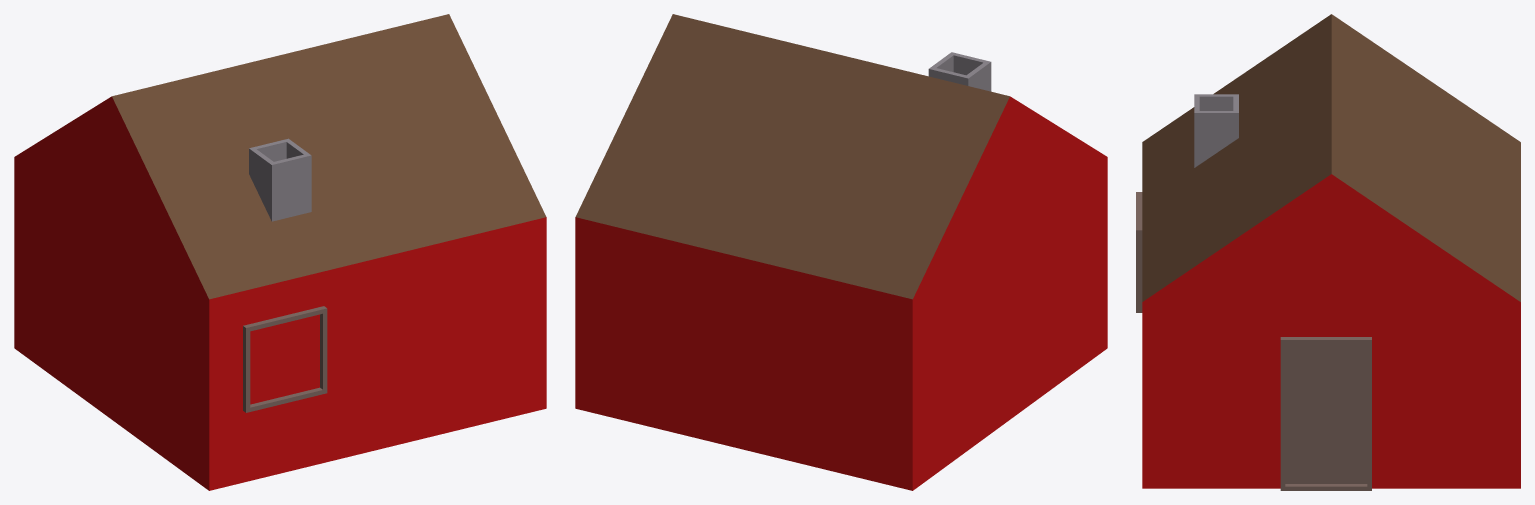
Rendered from House.fbx.
3 views of the same model, side by side, from view 1: azimuth 30°, elevation 25°; view 2: azimuth 150°, elevation 25°; view 3: azimuth 270°, elevation 25° (orthographic). The views are drawn at different scales.
Visible parts, largest first — view 1: Cube; view 2: Cube; view 3: Cube.
Boxes of the visible parts, box(x1,y1,x2,y2) form: Cube: box(14, 14, 546, 490); Cube: box(575, 14, 1107, 490); Cube: box(1136, 14, 1520, 490).
Bounding box in the file's own units: 415 × 374 × 415.
